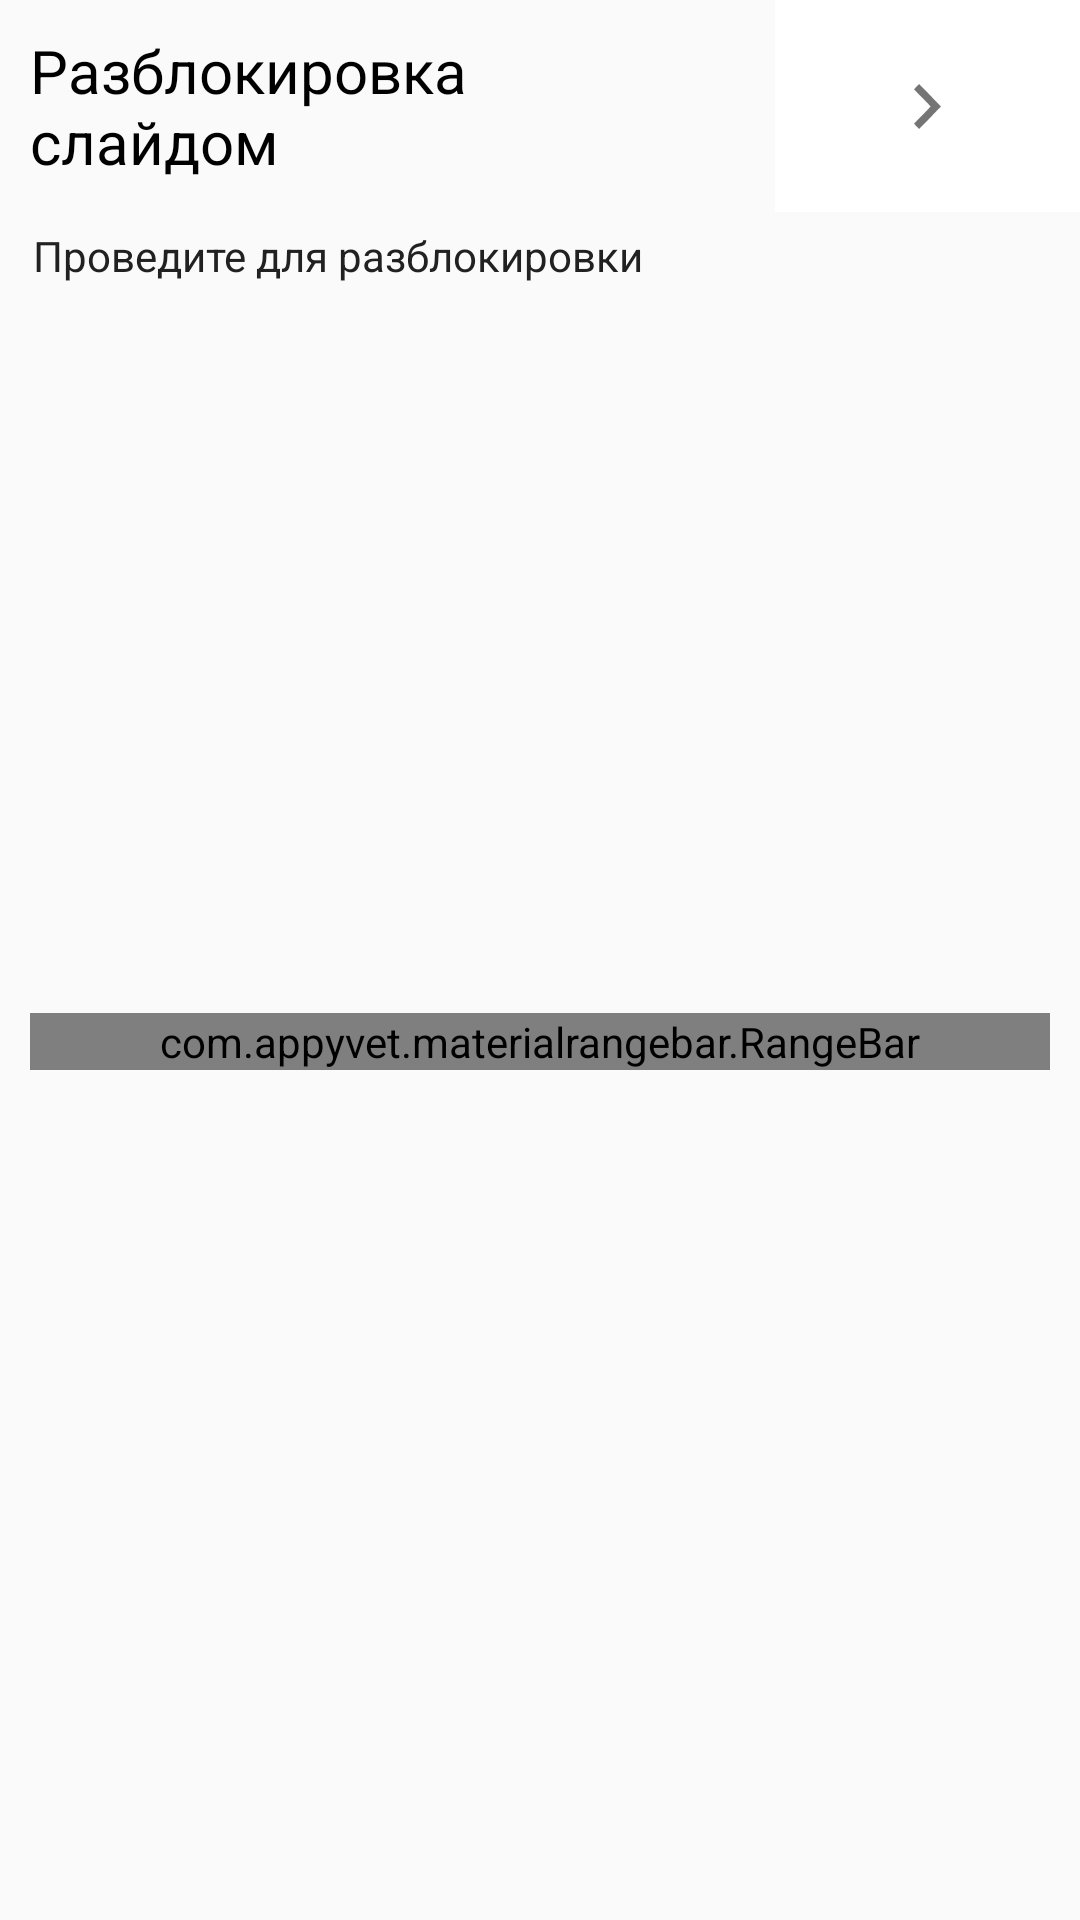

Icon bounding boxes for this 1080 × 1920 phone screenshot, format (x1, y1, x2, y2):
arrow: (914, 84, 941, 129)
